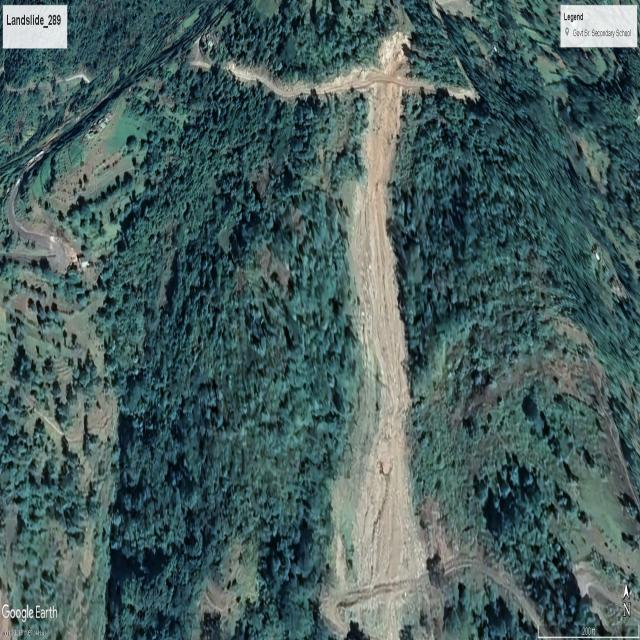Landslide: (349, 93, 433, 578)
